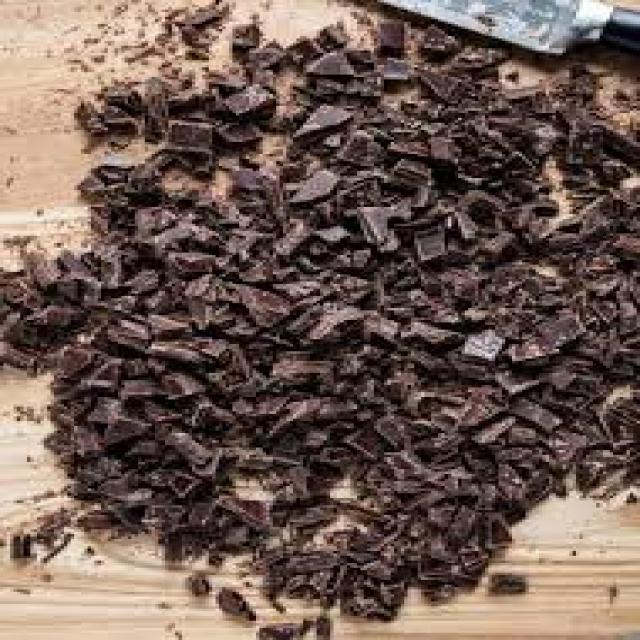Chocolate: (118, 68, 556, 525)
